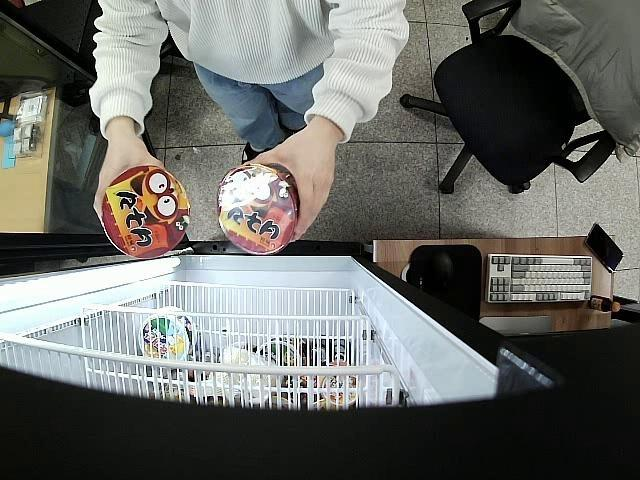05_nuguri_L: (103, 166, 190, 258), (218, 162, 300, 256)
